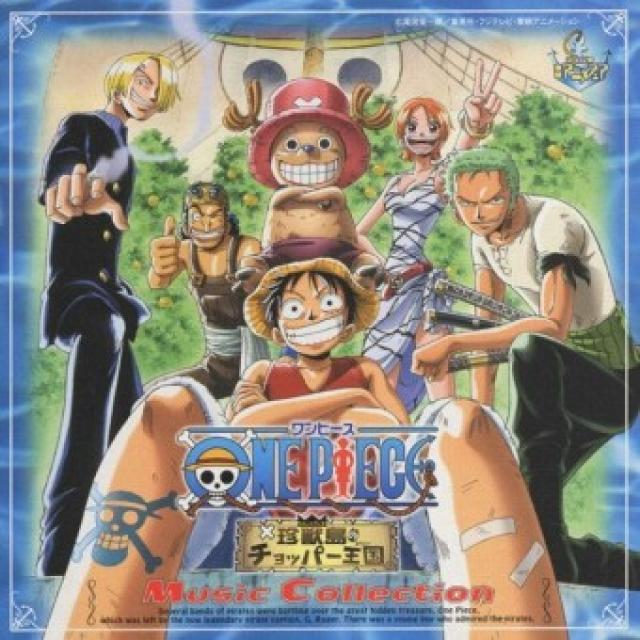Chyopa: (218, 62, 394, 266)
Luffy: (230, 253, 398, 363)
Nami: (390, 89, 454, 161)
Sangdi: (90, 46, 190, 128)
Usopp: (163, 172, 240, 261)
Zoro: (442, 146, 525, 244)
